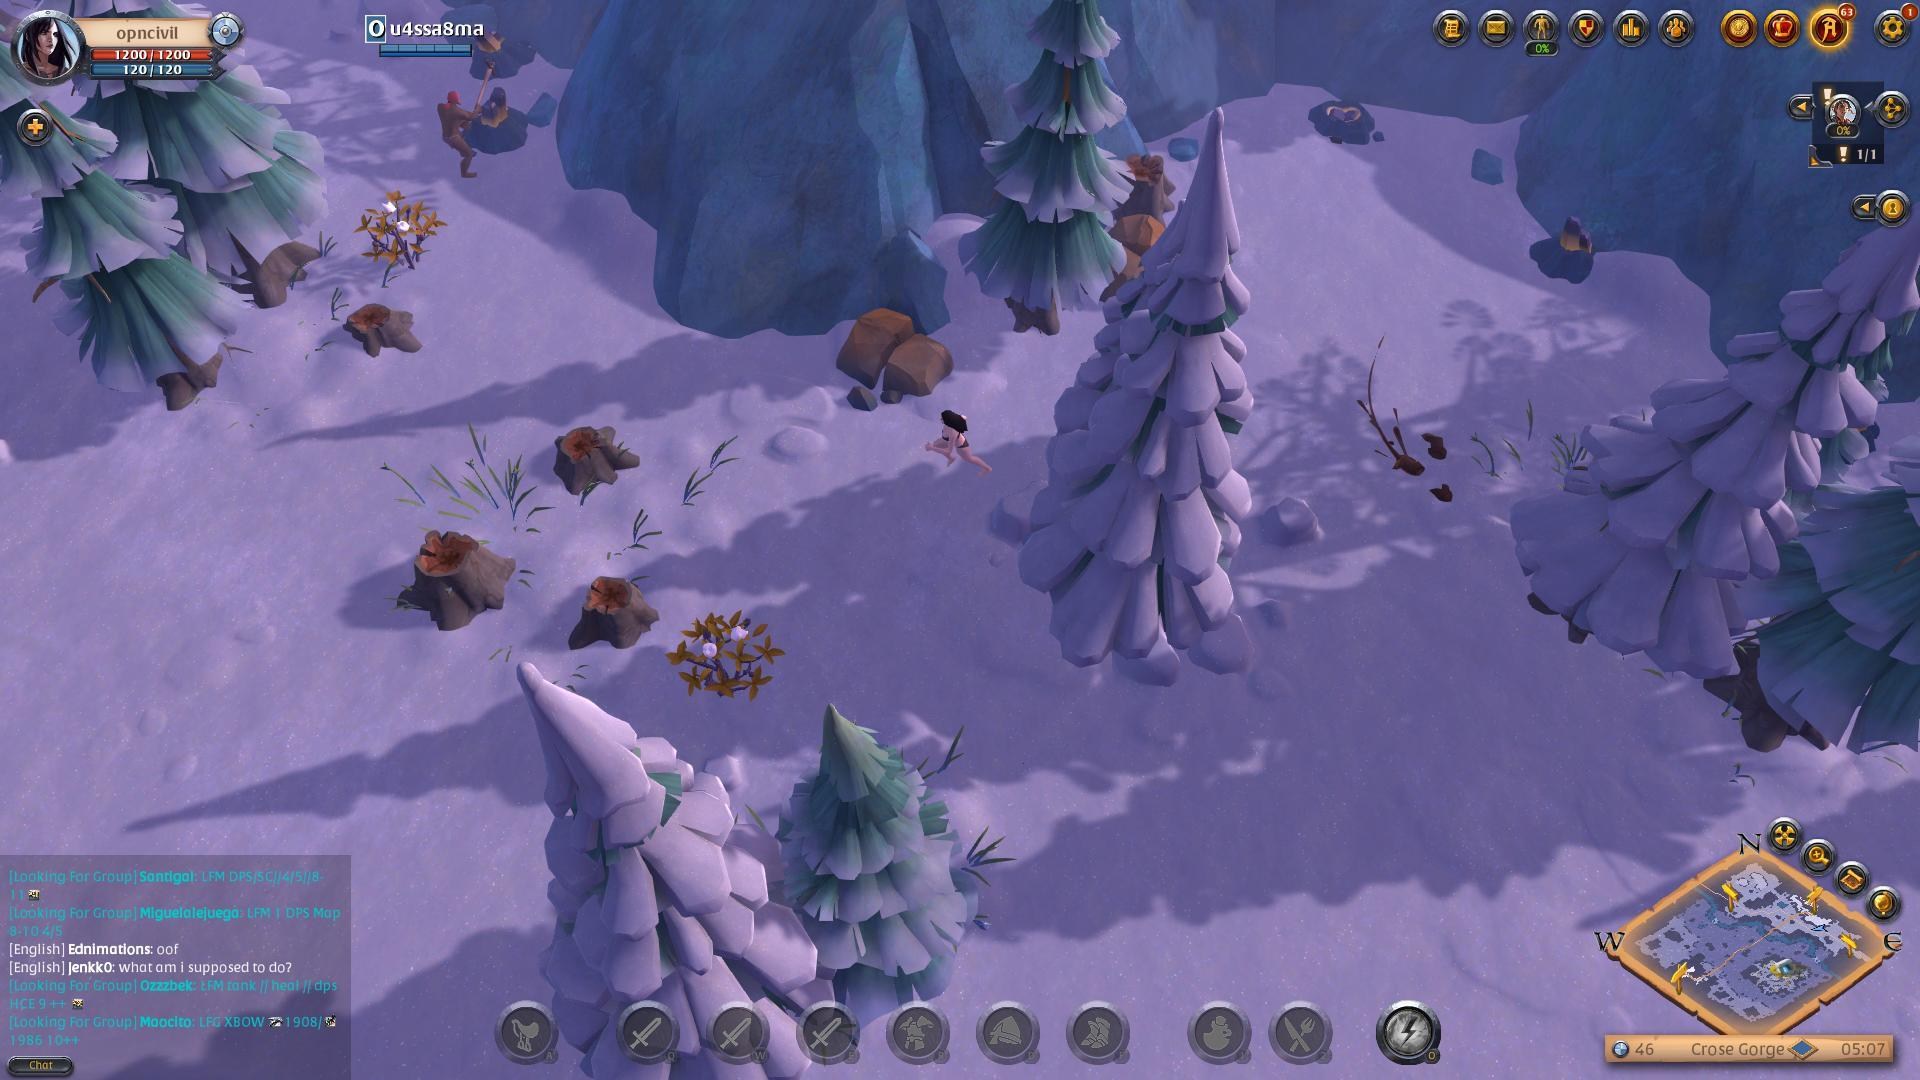copper_ore: (1513, 220, 1635, 291)
cotton: (670, 618, 800, 704), (353, 202, 465, 268)
limestone: (831, 295, 963, 409)
